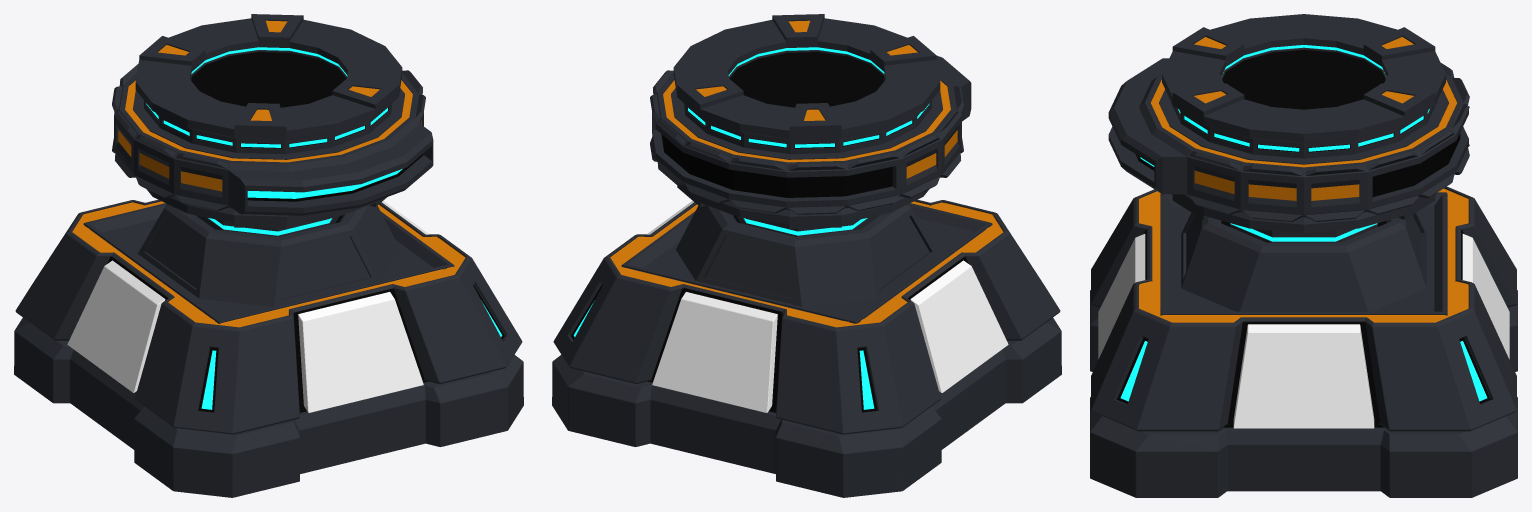
Rendered from SM_Turret_PlasmaDiscLauncher.fbx.
3 renders of one model, left to right at view 1: azimuth 30°, elevation 25°; view 2: azimuth 150°, elevation 25°; view 3: azimuth 270°, elevation 25°, orthographic. The views are drawn at different scales.
Visible parts, largest first — view 1: SM_Turret_PlasmaDiscLauncher_Base, SM_Turret_PlasmaDiscLauncher_Weapon; view 2: SM_Turret_PlasmaDiscLauncher_Base, SM_Turret_PlasmaDiscLauncher_Weapon; view 3: SM_Turret_PlasmaDiscLauncher_Base, SM_Turret_PlasmaDiscLauncher_Weapon.
Part boxes in pixels (<box>): SM_Turret_PlasmaDiscLauncher_Base: <box>14,199,523,497</box>; SM_Turret_PlasmaDiscLauncher_Weapon: <box>112,14,433,228</box>; SM_Turret_PlasmaDiscLauncher_Base: <box>552,199,1061,497</box>; SM_Turret_PlasmaDiscLauncher_Weapon: <box>650,14,971,228</box>; SM_Turret_PlasmaDiscLauncher_Base: <box>1090,186,1517,497</box>; SM_Turret_PlasmaDiscLauncher_Weapon: <box>1108,14,1469,232</box>.
Bounding box in the file's own units: 100 × 87.2 × 100.
